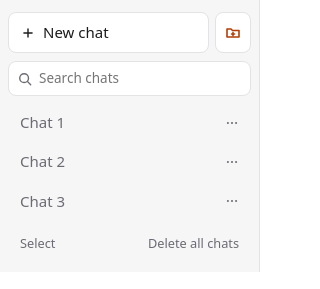
Scenario: select mode › clicking a box ticks it once, not twice
Click the button "Select".
click(38, 244)  # box top-left (8, 228), bottom-right (67, 260)
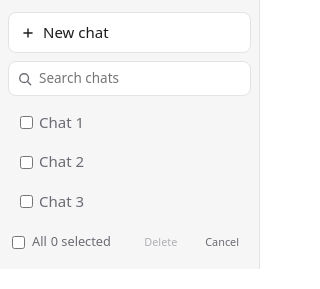
Click the 1st checkbox with class "tick".
click(26, 123)  # box top-left (20, 116), bottom-right (33, 129)
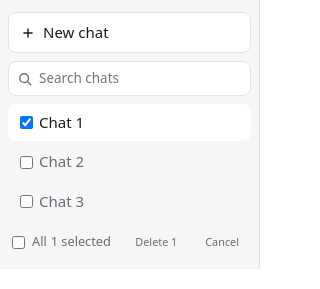
Result: the element with class "select-bar" shows "1 selected" at top-left (51, 232), bottom-right (111, 250)
